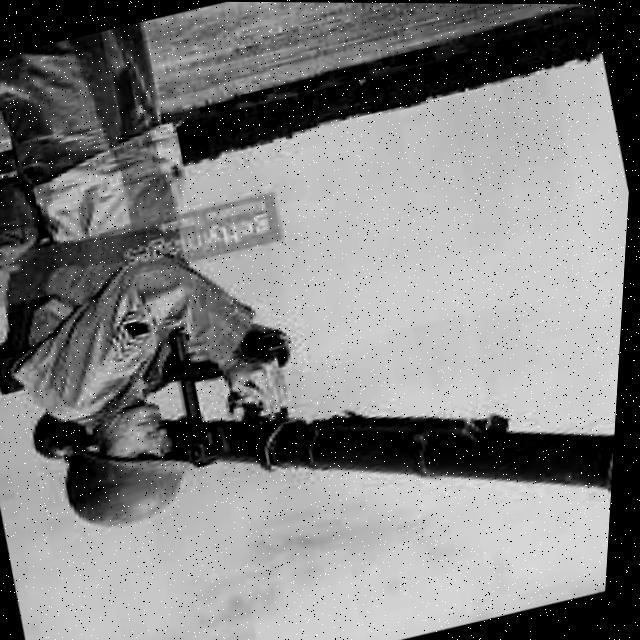rocket: (21, 274, 627, 640)
